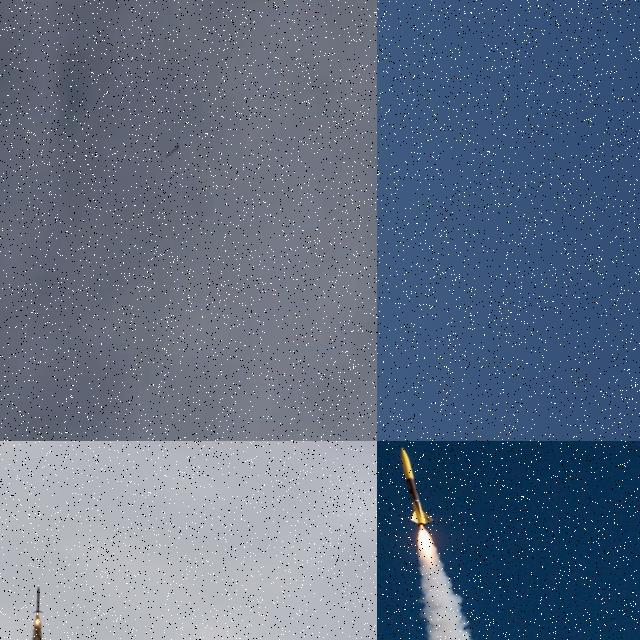Rocket: (398, 446, 434, 527), (32, 585, 43, 614), (165, 142, 180, 158)
